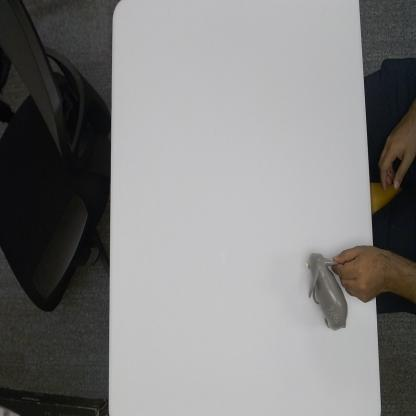Elephant: (303, 247, 348, 333)
Hand: (332, 243, 375, 304)
